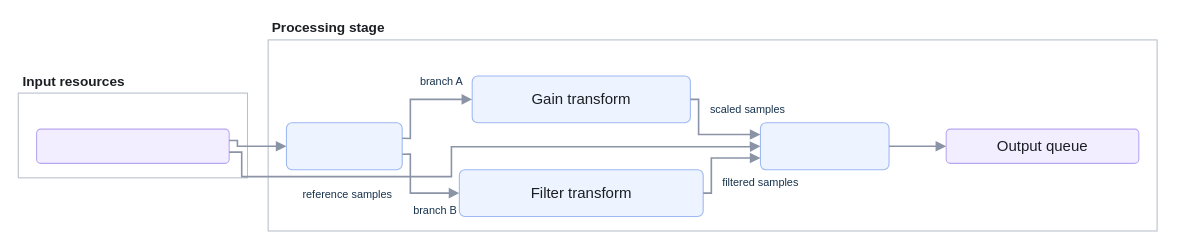
This 1177x250 diagram has some shape labels left out. The shapes that lost their labels are listed below. From the top down, each one's centre as x and y in pixels, then its label:
(x=132, y=145): Sample store
(x=343, y=146): Decode
(x=824, y=146): Combine
